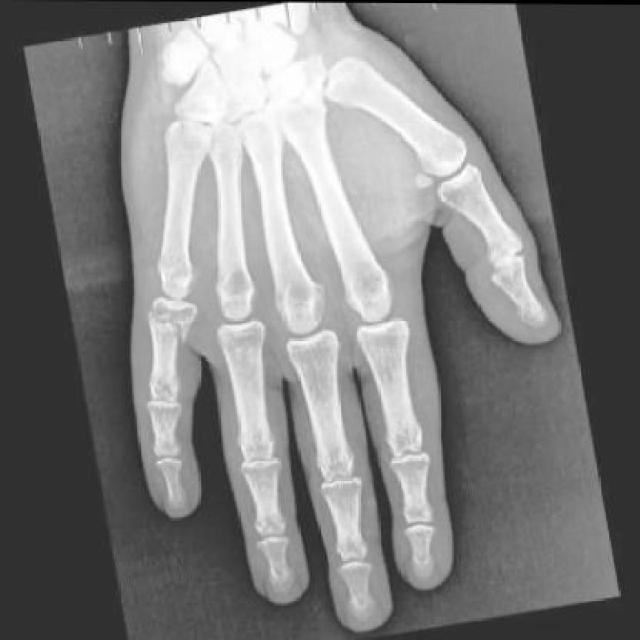Fracture: (142, 306, 185, 356)
